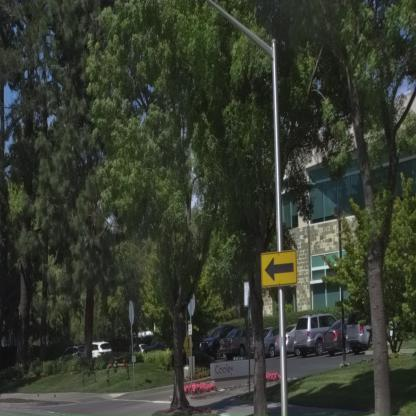car: (202, 326, 274, 361), (288, 313, 338, 357), (319, 320, 372, 357), (199, 325, 241, 359), (264, 328, 297, 358), (64, 343, 112, 360)
